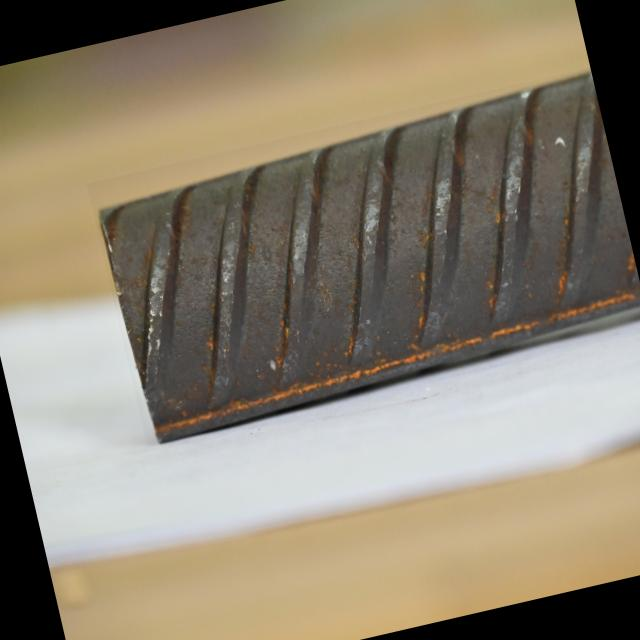ribbed bar: (86, 67, 640, 447)
